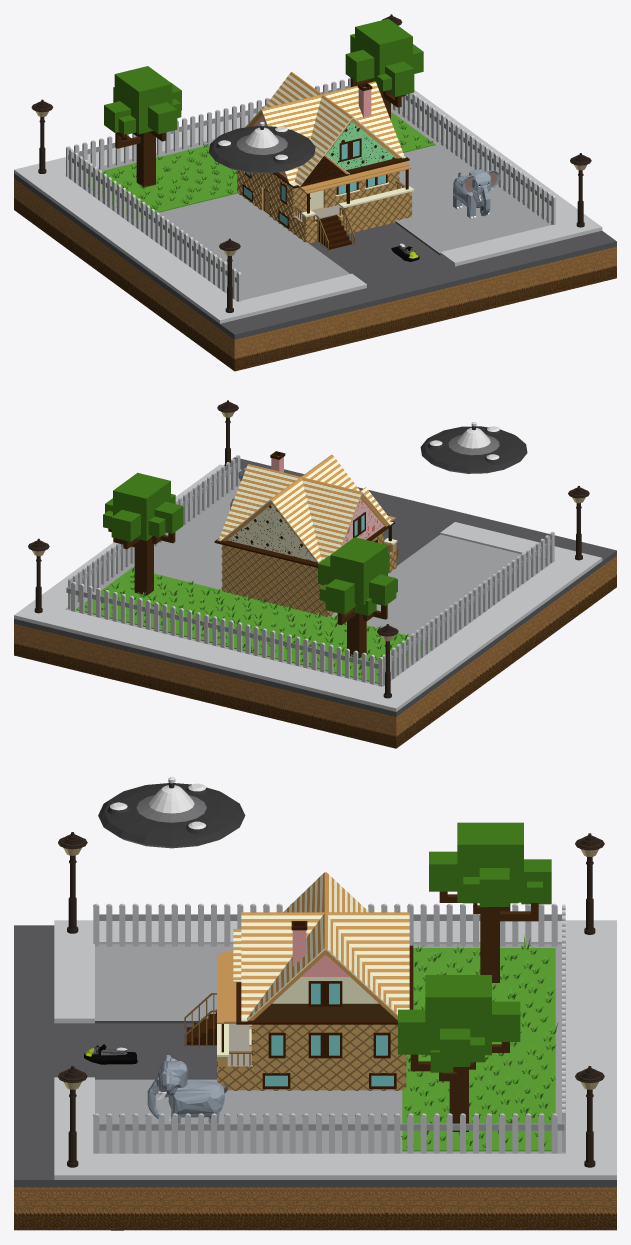
The picture shows the model from 3 angles, top to bottom: view 1: azimuth 30°, elevation 25°; view 2: azimuth 150°, elevation 25°; view 3: azimuth 270°, elevation 25°; orthographic projection. The views are drawn at different scales.
Visible parts, largest first — view 1: Cube.004, Cube.1102, OBJRANDOM_UFO, ANIMAL_ELEFANTE; view 2: Cube.004, Cube.1102, OBJRANDOM_UFO; view 3: Cube.004, Cube.1102, OBJRANDOM_UFO, ANIMAL_ELEFANTE, VEHICLES_WATERBIKE.
Boxes of the visible parts, box(x1,y1,x2,y2) form: Cube.004: box(14, 14, 616, 371); Cube.1102: box(237, 72, 414, 250); OBJRANDOM_UFO: box(208, 121, 315, 173); ANIMAL_ELEFANTE: box(453, 169, 500, 218); Cube.004: box(14, 400, 616, 748); Cube.1102: box(214, 451, 398, 616); OBJRANDOM_UFO: box(420, 422, 527, 473); Cube.004: box(14, 822, 616, 1230); Cube.1102: box(184, 872, 413, 1090); OBJRANDOM_UFO: box(98, 777, 245, 848); ANIMAL_ELEFANTE: box(147, 1055, 228, 1123); VEHICLES_WATERBIKE: box(84, 1044, 137, 1064).
Size of the model in its own units: 4000 by 1915 by 4000.
27 materials, 4 textured.
